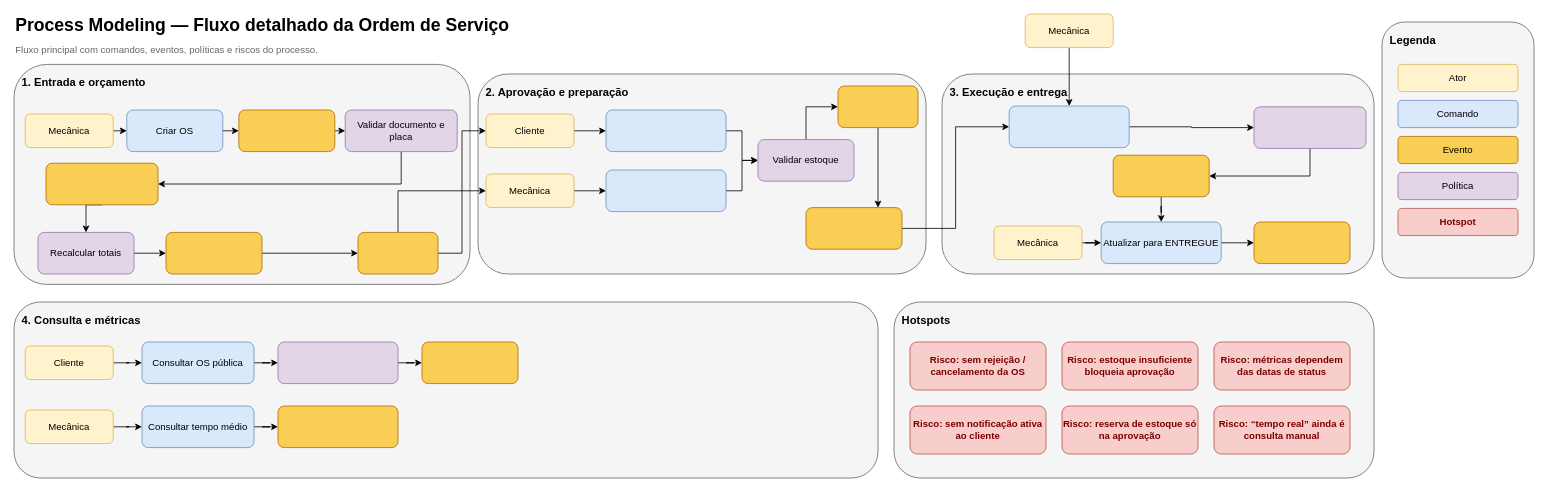
Some shapes in this 1548 by 492 pixel diagram are drawn without their labels. Each missing label, with the centre of its shape:
"Aplicar política de status" goes at point (1309, 127).
"Aprovar orçamento (admin)" goes at point (665, 190).
"Aprovar orçamento (público)" goes at point (665, 130).
"Atualizar para FINALIZADA" goes at point (1068, 126).
"Cliente / veículo identificados" goes at point (101, 183).
"Estoque baixado" goes at point (877, 106).
"Exigir código + CPF/CNPJ" goes at point (337, 362).
"Orçamento gerado" goes at point (213, 253).
"OS aguardando aprovação" goes at point (397, 253).
"OS em execução" goes at point (853, 228).
"OS entregue" goes at point (1301, 242).
"OS finalizada" goes at point (1160, 175).
"OS recebida" goes at point (286, 130).
"Status consultado" goes at point (469, 362).
"Tempo médio calculado" goes at point (337, 426).
